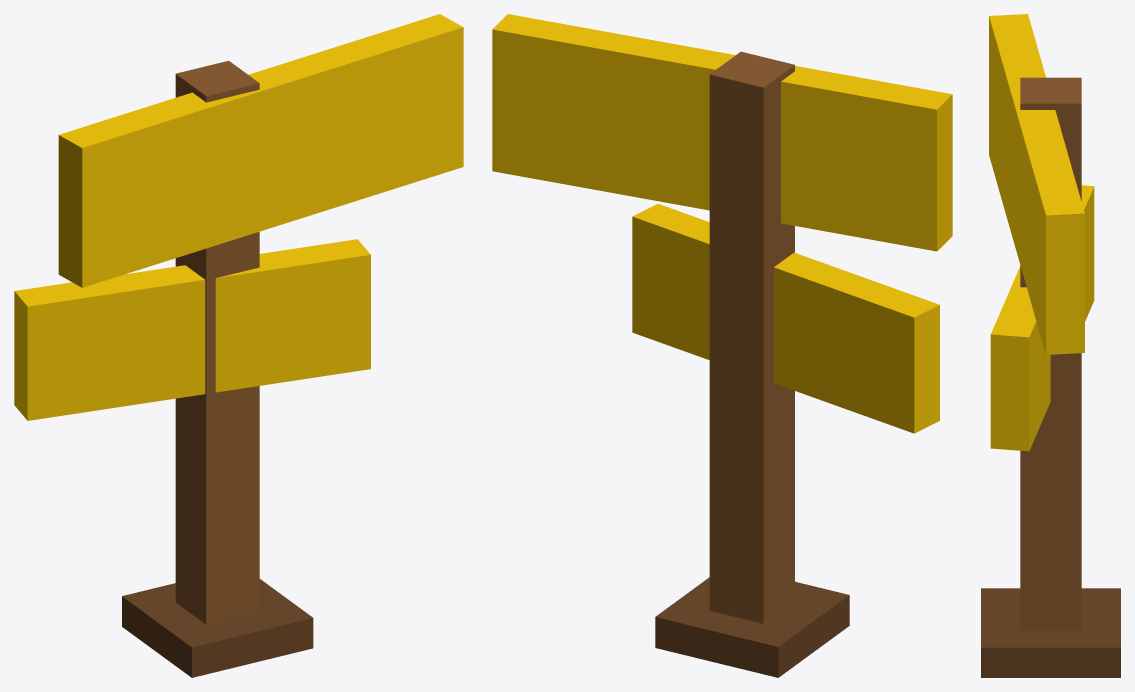
Rendered from signpost.glb.
3 renders of one model, left to right at view 1: azimuth 30°, elevation 25°; view 2: azimuth 150°, elevation 25°; view 3: azimuth 270°, elevation 25°, orthographic.
Bounding box in the file's own units: 1.77 × 2.2 × 0.5.
